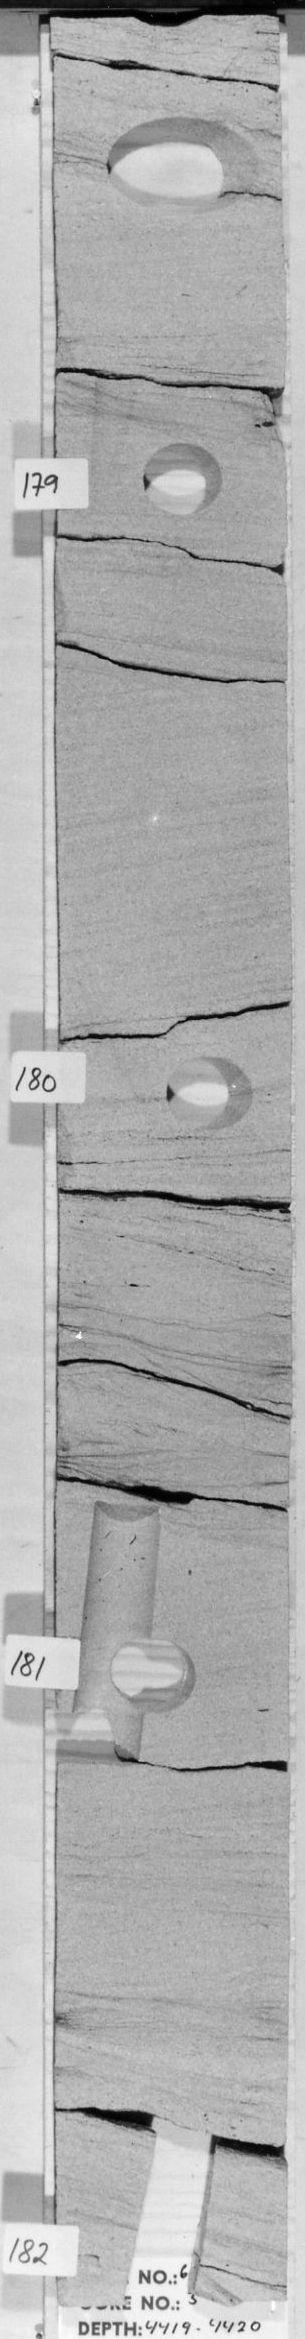hplug: (154, 1044, 263, 1137), (108, 1633, 200, 1712), (141, 442, 230, 521)
scal: (99, 107, 268, 221)
vplug: (70, 1504, 166, 1766), (124, 2106, 215, 2308), (81, 371, 136, 507)
